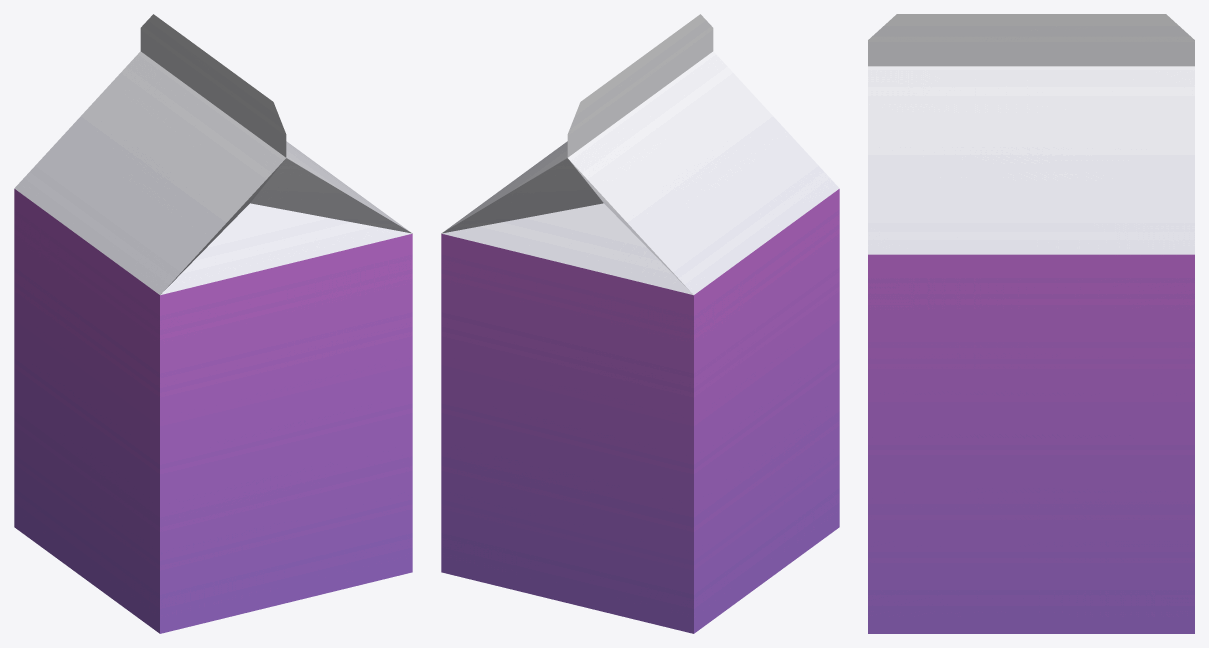
The model's file is carton.007_lev2.glb.
The picture shows the model from 3 angles, left to right: view 1: azimuth 30°, elevation 25°; view 2: azimuth 150°, elevation 25°; view 3: azimuth 270°, elevation 25°; orthographic projection. The views are drawn at different scales.
Visible parts, largest first — view 1: carton.007_lev2; view 2: carton.007_lev2; view 3: carton.007_lev2.
Boxes of the visible parts, box(x1,y1,x2,y2) form: carton.007_lev2: box(14, 14, 412, 633); carton.007_lev2: box(441, 14, 839, 633); carton.007_lev2: box(868, 14, 1194, 633).
Bounding box in the file's own units: 0.1539 × 0.2864 × 0.1539.
Materials: 1 (1 with a texture image).
